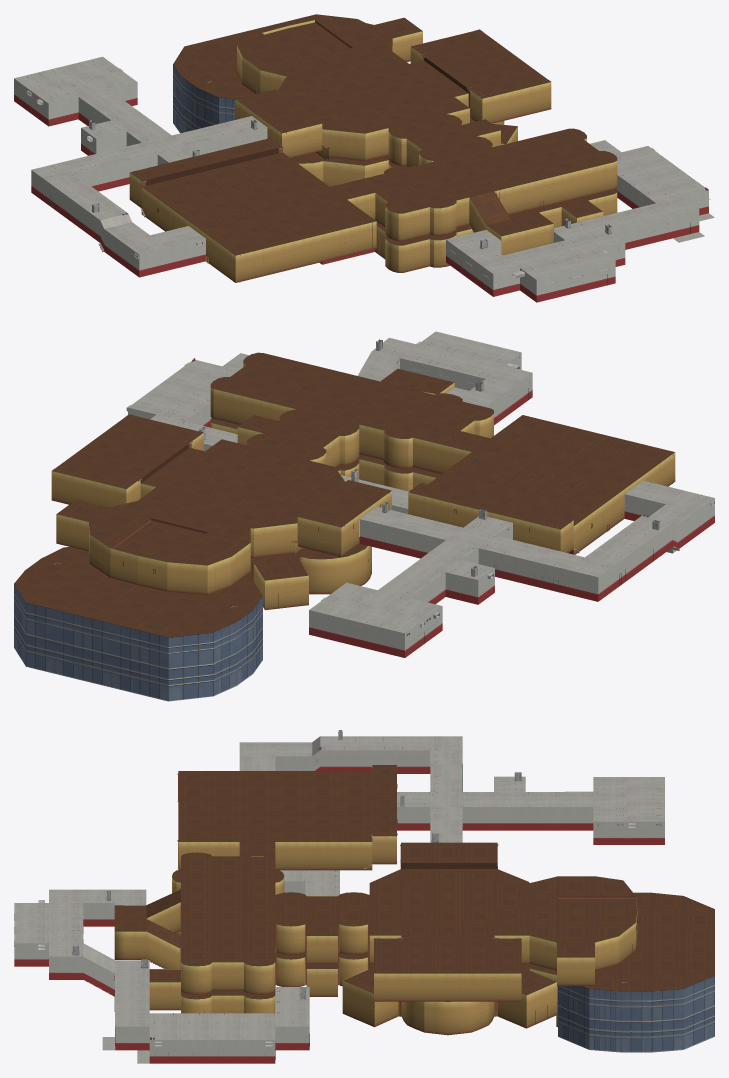
Rendered from casino_map_-_unlimited_gun_for_hire (1).glb.
The picture shows the model from 3 angles, top to bottom: view 1: azimuth 30°, elevation 25°; view 2: azimuth 150°, elevation 25°; view 3: azimuth 270°, elevation 25°; orthographic projection. The views are drawn at different scales.
Parts seen in each view (by area): view 1: Ceilling, Wall_003, Ceiling, BackalleyCeilling, Ceilling_lol, Wall_1, Wall_2, Ceilling_Firstfloor, Wall_02, Wall, Wallbackalley, Window_01 (+1 smaller); view 2: Ceilling, Wall_003, Ceiling, Window_01, BackalleyCeilling, Wall_1, Ceilling_Firstfloor, Ceilling_lol, Wall_2, Wall_02, Wall, Ceilling_Stairs (+1 smaller); view 3: Ceilling, Wall_003, Ceiling, BackalleyCeilling, Ceilling_lol, Wall_02, Ceilling_Firstfloor, Window_01, Wall_1, Wallbackalley, Wall_2, Wall (+2 smaller).
Part boxes in pixels (x1,y1,x2,y2): Ceilling: [235, 17, 617, 213]; Wall_003: [235, 19, 617, 255]; Ceiling: [130, 138, 376, 255]; BackalleyCeilling: [14, 56, 267, 254]; Ceilling_lol: [446, 140, 708, 279]; Wall_1: [14, 78, 267, 277]; Wall_2: [129, 173, 376, 282]; Ceilling_Firstfloor: [173, 14, 617, 245]; Wall_02: [298, 121, 617, 272]; Wall: [446, 240, 625, 302]; Wallbackalley: [554, 146, 708, 249]; Window_01: [173, 14, 357, 133]; Ceilling: [52, 352, 493, 565]; Wall_003: [51, 363, 493, 594]; Ceiling: [408, 415, 674, 529]; Window_01: [14, 547, 262, 701]; BackalleyCeilling: [309, 480, 714, 633]; Wall_1: [309, 494, 714, 657]; Ceilling_Firstfloor: [14, 417, 441, 637]; Ceilling_lol: [128, 331, 531, 445]; Wall_2: [408, 445, 675, 554]; Wall_02: [210, 422, 435, 610]; Wall: [392, 353, 532, 425]; Ceilling_Stairs: [381, 368, 454, 393]; Ceilling: [172, 842, 637, 973]; Wall_003: [114, 852, 637, 1001]; Ceiling: [178, 765, 396, 856]; BackalleyCeilling: [239, 736, 664, 842]; Ceilling_lol: [14, 889, 309, 1039]; Wall_02: [149, 930, 557, 1035]; Ceilling_Firstfloor: [149, 893, 714, 1001]; Window_01: [558, 892, 714, 1052]; Wall_1: [275, 750, 664, 844]; Wallbackalley: [115, 1026, 309, 1063]; Wall_2: [178, 836, 396, 870]; Wall: [14, 903, 115, 996].
Size of the model in its own units: 101 by 18.18 by 112.
Materials: 1 (1 with a texture image).
